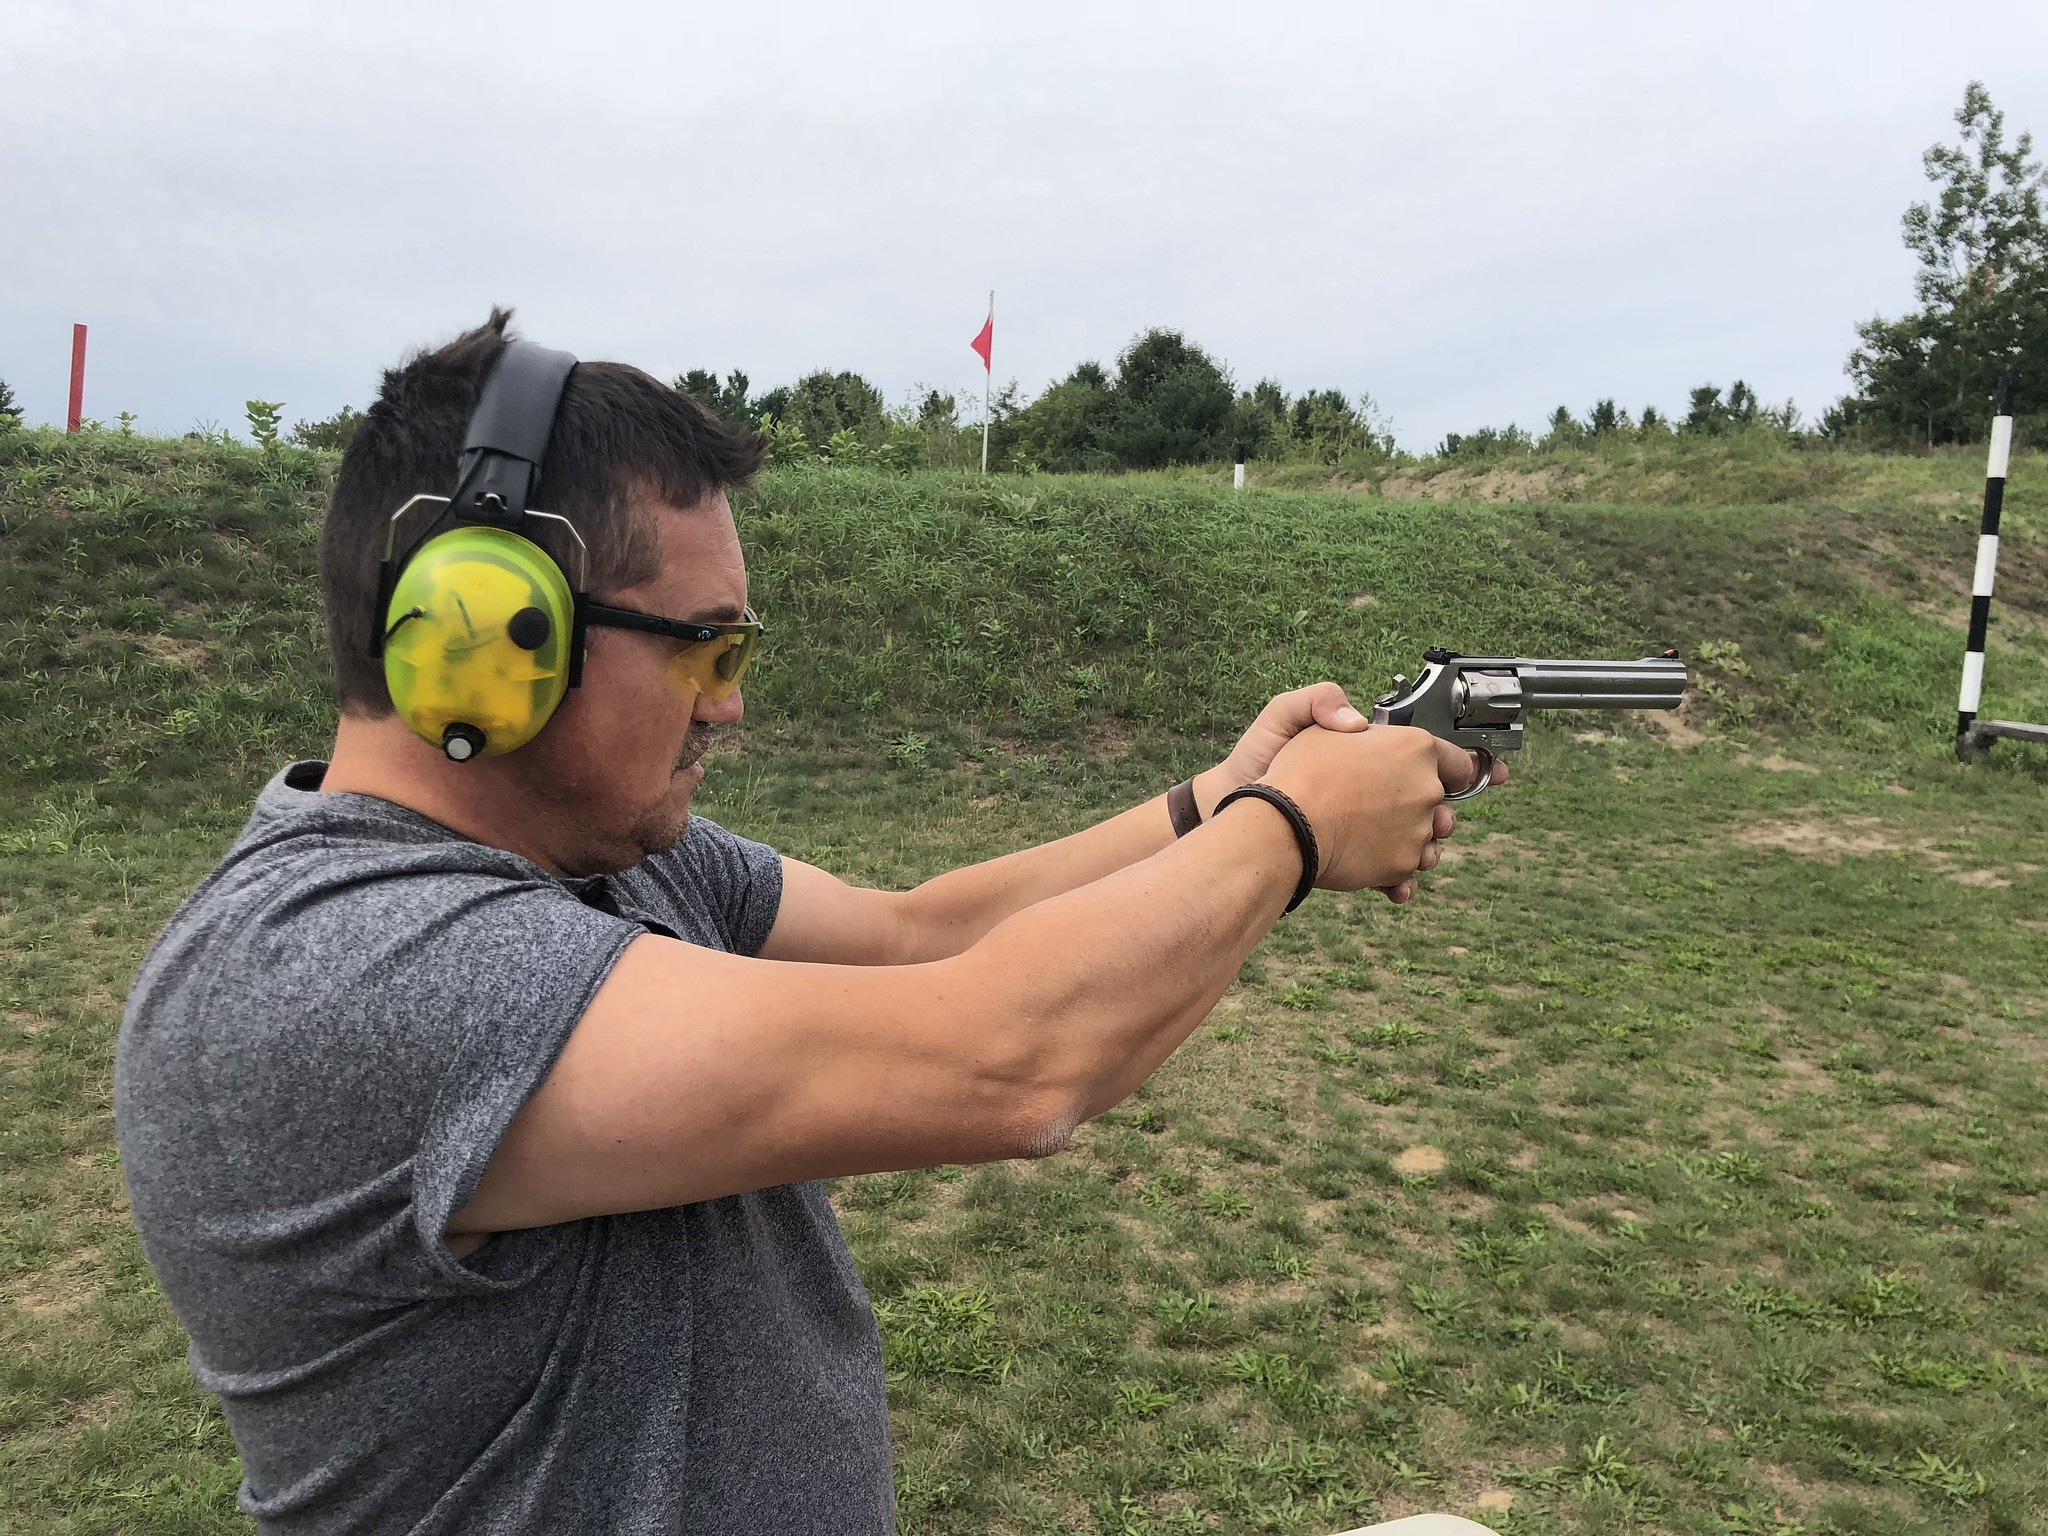gun: (1365, 642, 1701, 807)
person: (106, 297, 1478, 1536)
